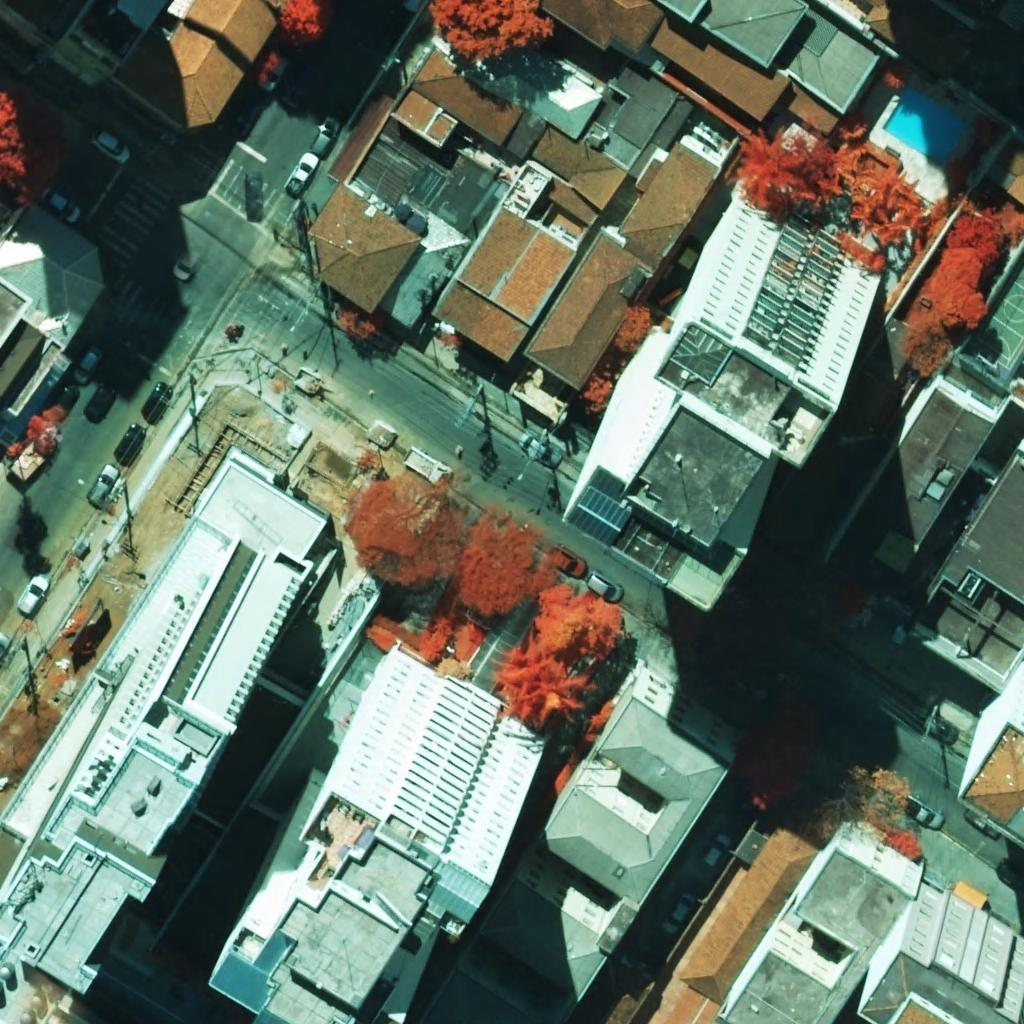pool: (882, 87, 967, 166)
